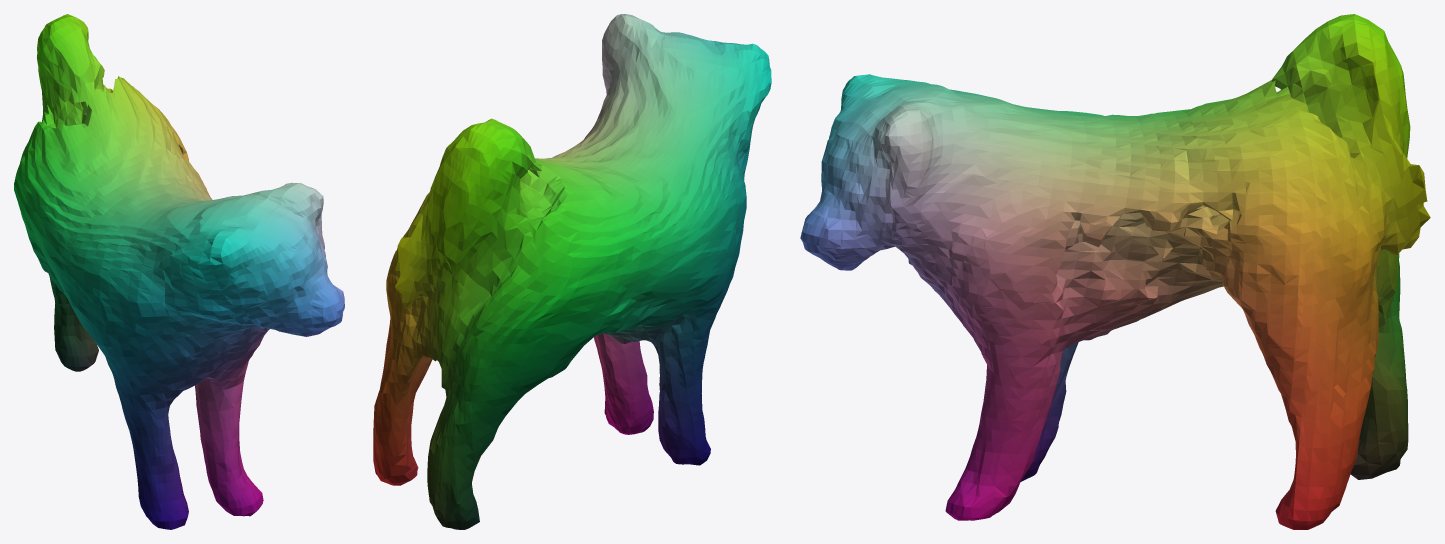
File: shiba-haru-1001-mesh-00003.obj
The picture shows the model from 3 angles, left to right: view 1: azimuth 30°, elevation 25°; view 2: azimuth 150°, elevation 25°; view 3: azimuth 270°, elevation 25°; orthographic projection. The views are drawn at different scales.
Bounding box in the file's own units: 0.0559 × 0.0984 × 0.1142.
